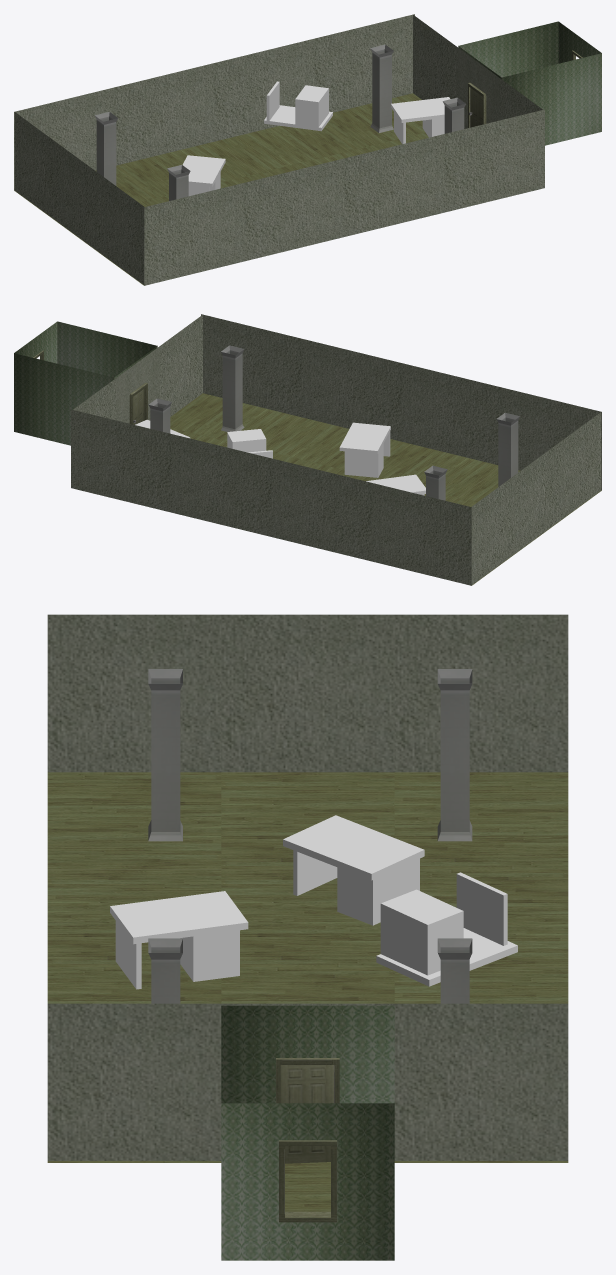
Rendered from Bedroom.fbx.
The picture shows the model from 3 angles, top to bottom: view 1: azimuth 30°, elevation 25°; view 2: azimuth 150°, elevation 25°; view 3: azimuth 270°, elevation 25°; orthographic projection. The views are drawn at different scales.
Parts seen in each view (by area): view 1: Plane.023, Plane.022, Plane.021, Plane.020, Plane.024, Plane.026, Plane.027, Plane.002, Cube.003, Plane.008, Plane.025, Plane.030 (+16 smaller); view 2: Plane.024, Plane.025, Plane.026, Plane.027, Plane.023, Plane.021, Plane.020, Plane.004, Cube.003, Plane.022, Plane.030, Plane.028 (+15 smaller); view 3: Plane.030, Plane.018, Plane.019, Plane.028, Plane.029, Plane.003, Plane.012, Cube.003, Plane.013, Plane.001, Plane.011, Plane.016 (+12 smaller).
Part boxes in pixels (<box>): Plane.023: <box>244,158,344,261</box>; Plane.022: <box>144,183,244,285</box>; Plane.021: <box>344,134,444,236</box>; Plane.020: <box>445,109,544,212</box>; Plane.024: <box>114,63,214,165</box>; Plane.026: <box>214,38,314,141</box>; Plane.027: <box>314,14,414,112</box>; Plane.002: <box>501,53,601,145</box>; Cube.003: <box>94,44,465,200</box>; Plane.008: <box>215,125,357,173</box>; Plane.025: <box>14,87,114,190</box>; Plane.030: <box>58,144,101,253</box>; Plane.024: <box>271,458,371,561</box>; Plane.025: <box>371,483,471,585</box>; Plane.026: <box>171,434,271,536</box>; Plane.027: <box>71,409,170,512</box>; Plane.023: <box>401,363,501,464</box>; Plane.021: <box>301,338,401,441</box>; Plane.020: <box>201,314,301,416</box>; Plane.004: <box>14,353,114,445</box>; Cube.003: <box>148,345,519,500</box>; Plane.022: <box>501,387,601,490</box>; Plane.030: <box>514,444,557,553</box>; Plane.028: <box>558,412,601,521</box>; Plane.030: <box>221,614,394,772</box>; Plane.018: <box>394,1003,568,1160</box>; Plane.019: <box>47,1003,221,1160</box>; Plane.028: <box>47,614,221,772</box>; Plane.029: <box>394,614,568,772</box>; Plane.003: <box>221,1103,394,1260</box>; Plane.012: <box>47,772,221,869</box>; Cube.003: <box>148,669,472,1003</box>; Plane.013: <box>394,772,568,869</box>; Plane.001: <box>221,1005,394,1103</box>; Plane.011: <box>221,772,394,869</box>; Plane.016: <box>221,869,385,967</box>.
Size of the model in its own units: 4011 by 606 by 1800.
